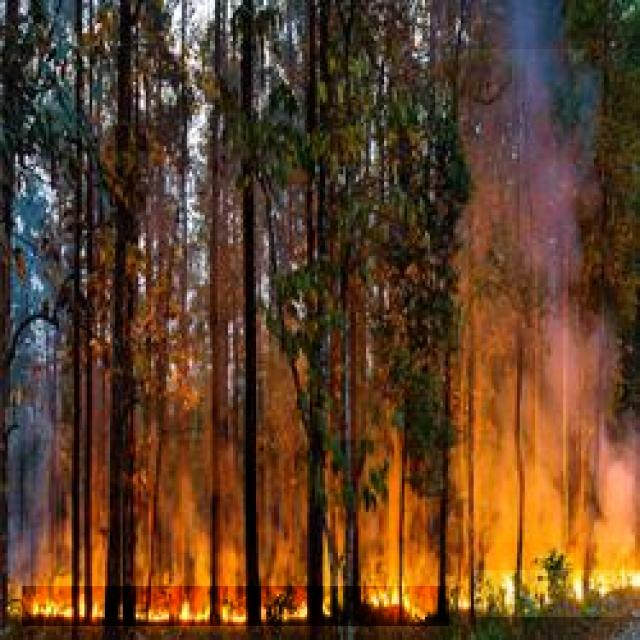Fire: (22, 586, 449, 626), (474, 570, 640, 617)
Smoke: (428, 49, 636, 542), (10, 440, 424, 554)
